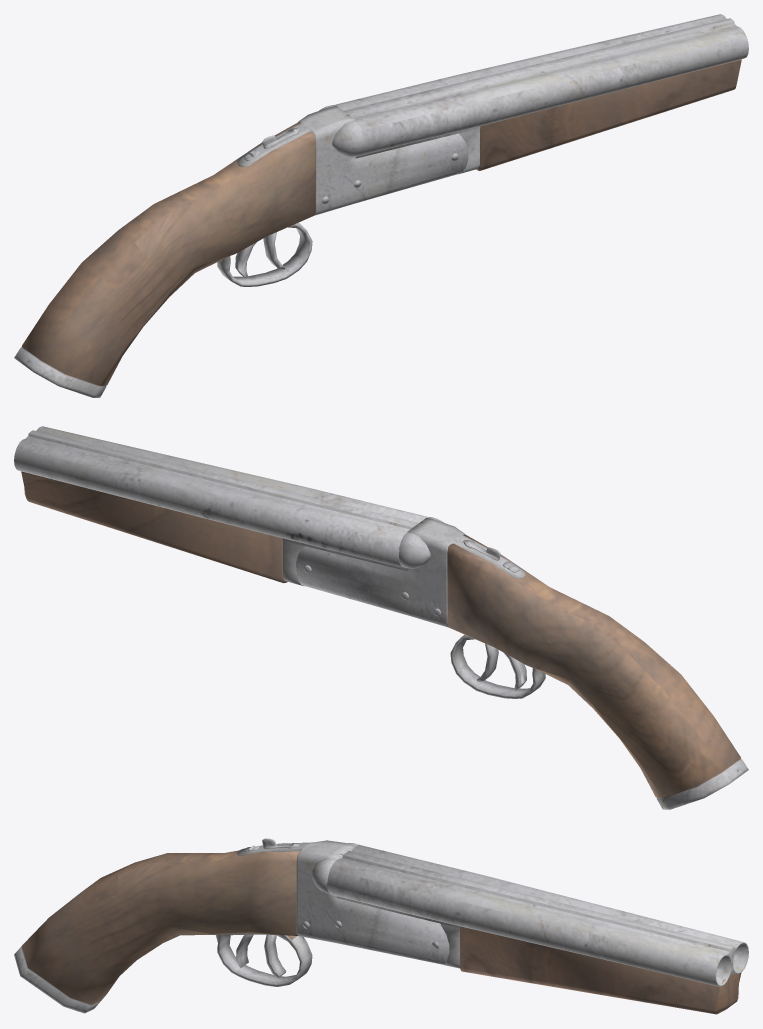
Rendered from double-barrel-shotgun__Shotgun_1__Shotgun__doubleBarrelLow.glb.
3 views of the same model, one above another, from view 1: azimuth 30°, elevation 25°; view 2: azimuth 150°, elevation 25°; view 3: azimuth 330°, elevation 25° (orthographic).
Visible parts, largest first — view 1: Circle.004, Cylinder, Cylinder.007; view 2: Circle.004, Cylinder, Cylinder.007; view 3: Circle.004, Cylinder, Cylinder.007.
Boxes of the visible parts, box(x1,y1,x2,y2) form: Circle.004: box(14, 105, 468, 397); Cylinder: box(334, 14, 748, 174); Cylinder.007: box(235, 232, 285, 278); Circle.004: box(296, 517, 748, 809); Cylinder: box(14, 426, 428, 586); Cylinder.007: box(477, 643, 526, 691); Circle.004: box(14, 838, 449, 1013); Cylinder: box(326, 845, 748, 1014); Cylinder.007: box(236, 934, 285, 977).
Bounding box in the file's own units: 4.53 × 1.33 × 0.425.
2 materials, 2 textured.
